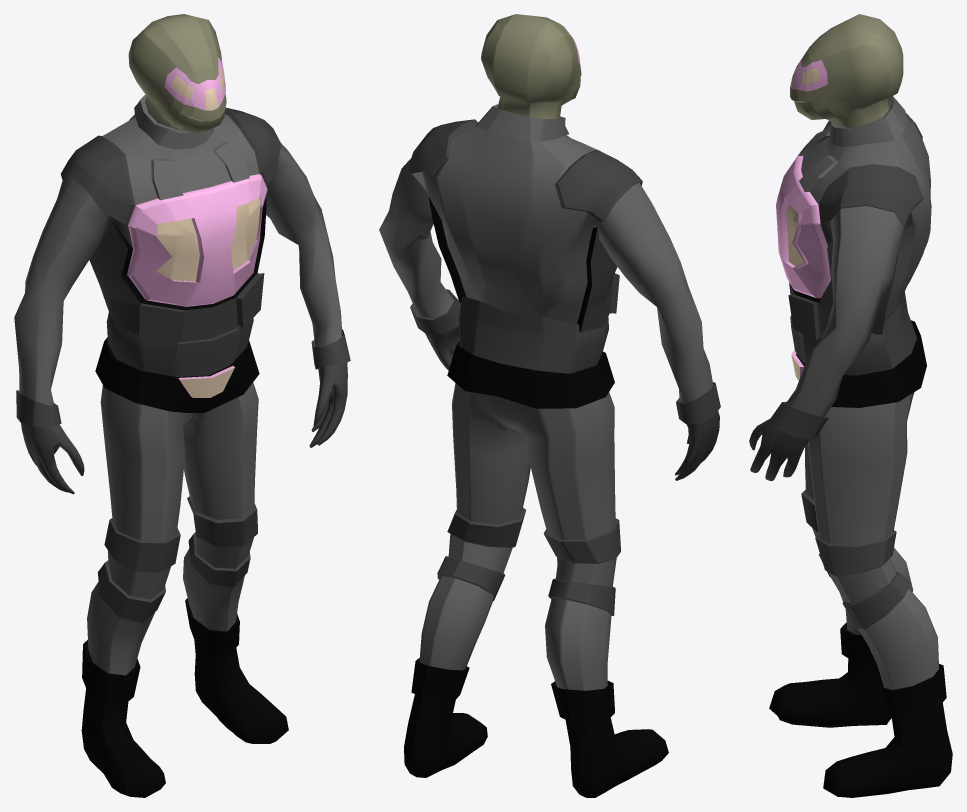
File: P_ENEMY.fbx
3 renders of one model, left to right at view 1: azimuth 30°, elevation 25°; view 2: azimuth 150°, elevation 25°; view 3: azimuth 270°, elevation 25°, orthographic. The views are drawn at different scales.
Parts seen in each view (by area): view 1: Enemy_4; view 2: Enemy_4; view 3: Enemy_4.
Boxes of the visible parts, x1,y1,x2,y2 form: Enemy_4: (14,14,350,797); Enemy_4: (379,14,720,797); Enemy_4: (749,14,952,797).
Bounding box in the file's own units: 2.04 × 4.58 × 1.15.
